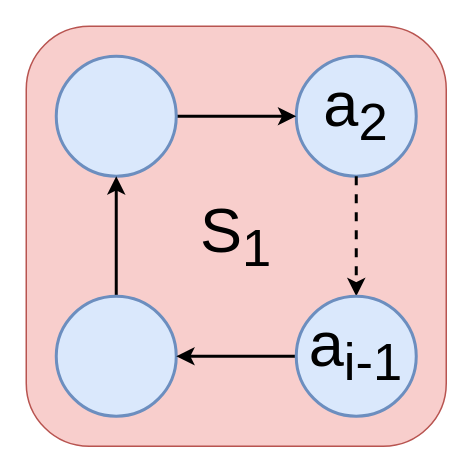
The diagram is 473 pixels wide and 473 high, and some of its shapes have lost their labels. The shapes that lost their labels are listed below. From the top down, each one's box as (x1, y1, x2, y2) in pixels, then its label:
(54, 54, 177, 177): a 1
(54, 294, 177, 417): a i
